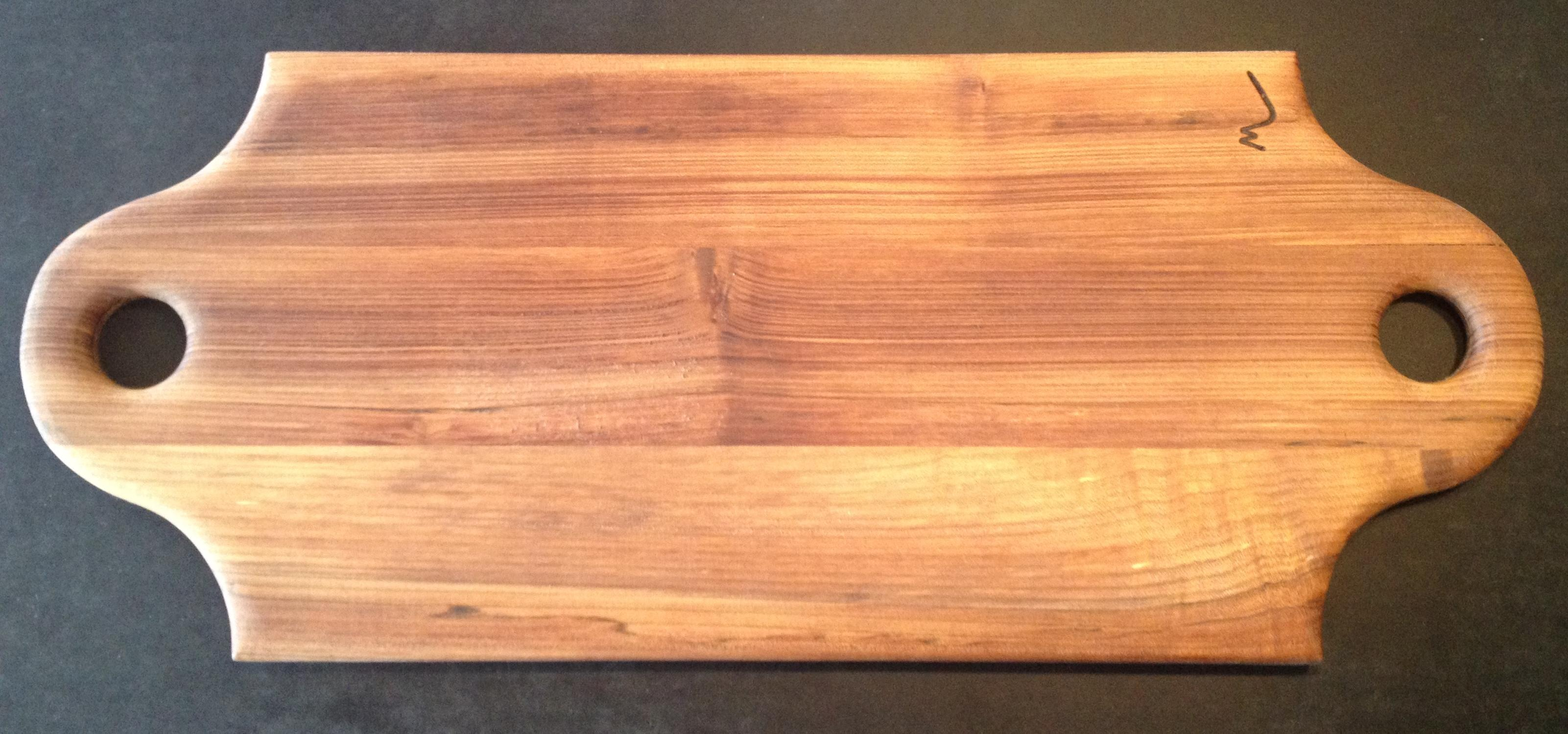gloved_hand: (10, 53, 1556, 699)
